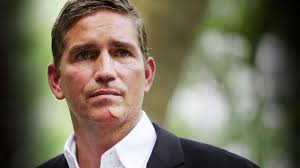No-Glasses: (61, 42, 144, 67)
